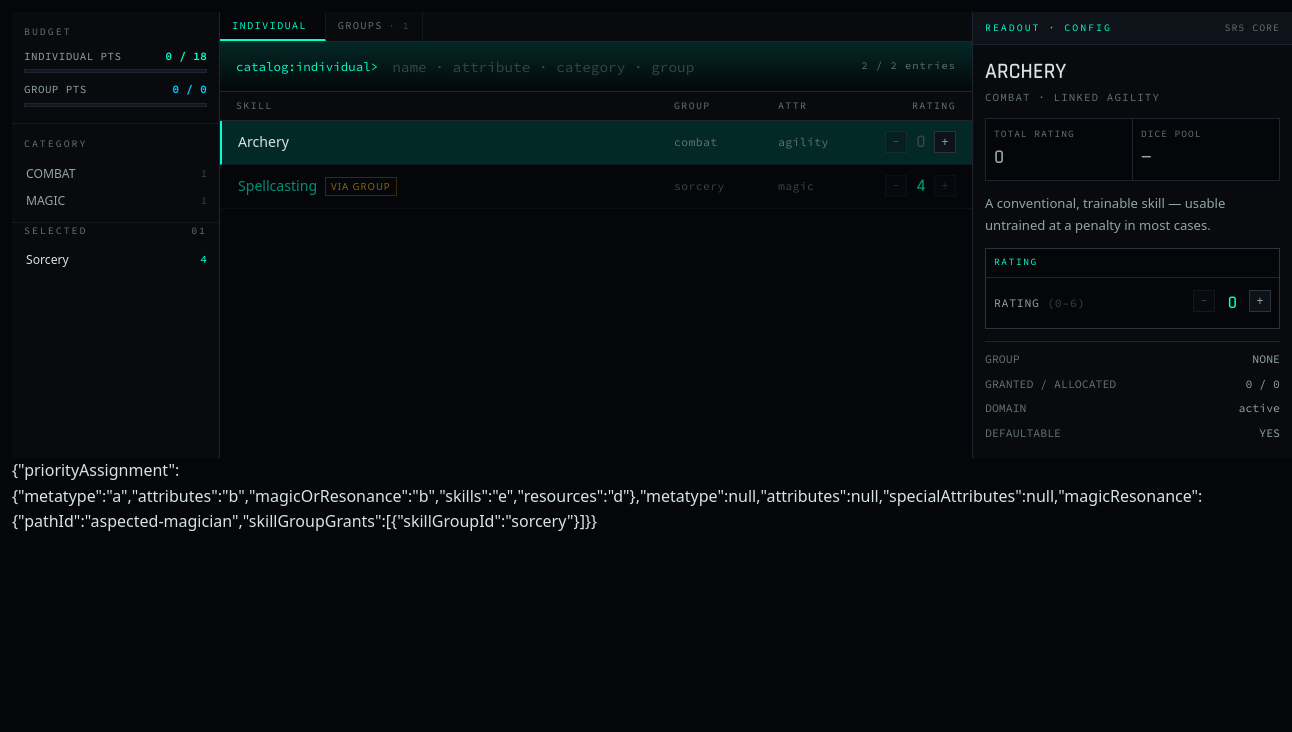
Scenario: reported character creation issues › keeps granted group totals separate from purchased ratings
What coordinates should you click on to do the following:
click the button "GROUPS · 1"
I would click on:
 (374, 26)
Its box is top-left (326, 12), bottom-right (423, 41).
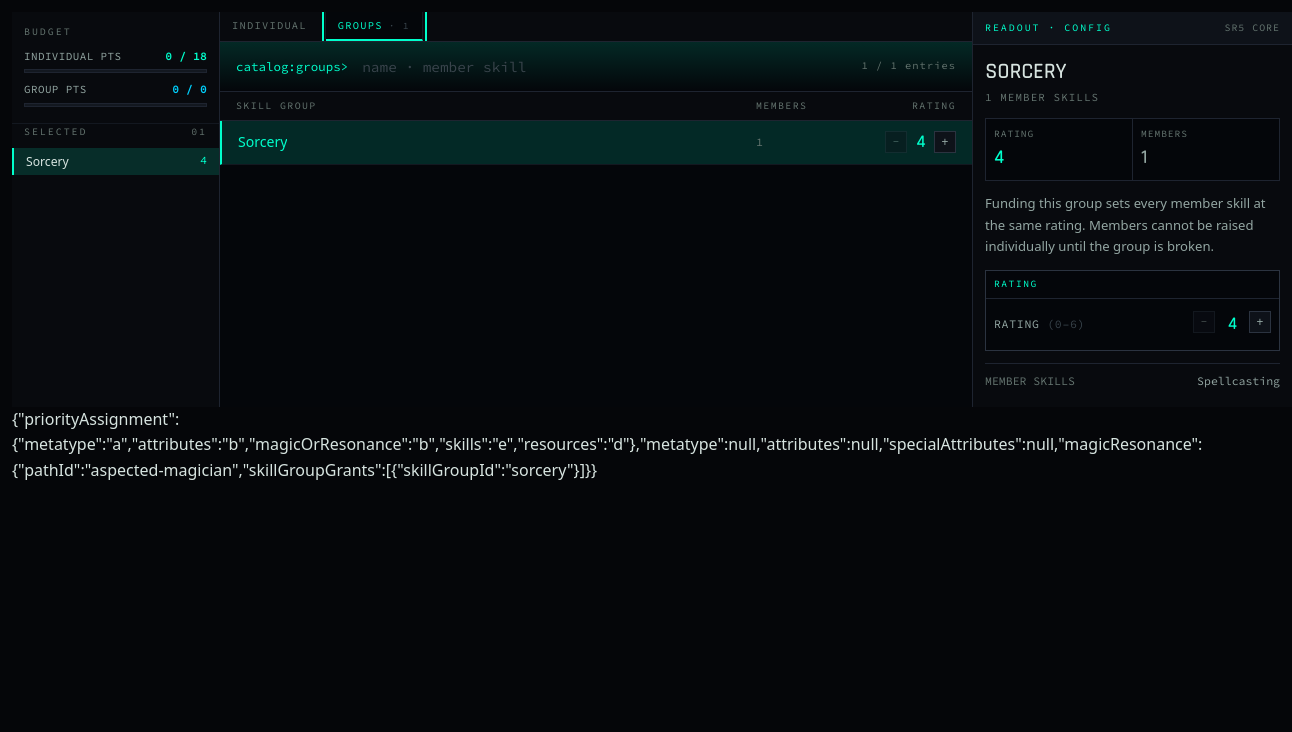
Expected: the button named "Decrease Sorcery group" is disabled, top-left (885, 131), bottom-right (907, 153)
What coordinates should you click on to do the following:
click the button named "Increase Sorcery group"
I would click on:
 (945, 142)
Its box is top-left (934, 131), bottom-right (956, 153).
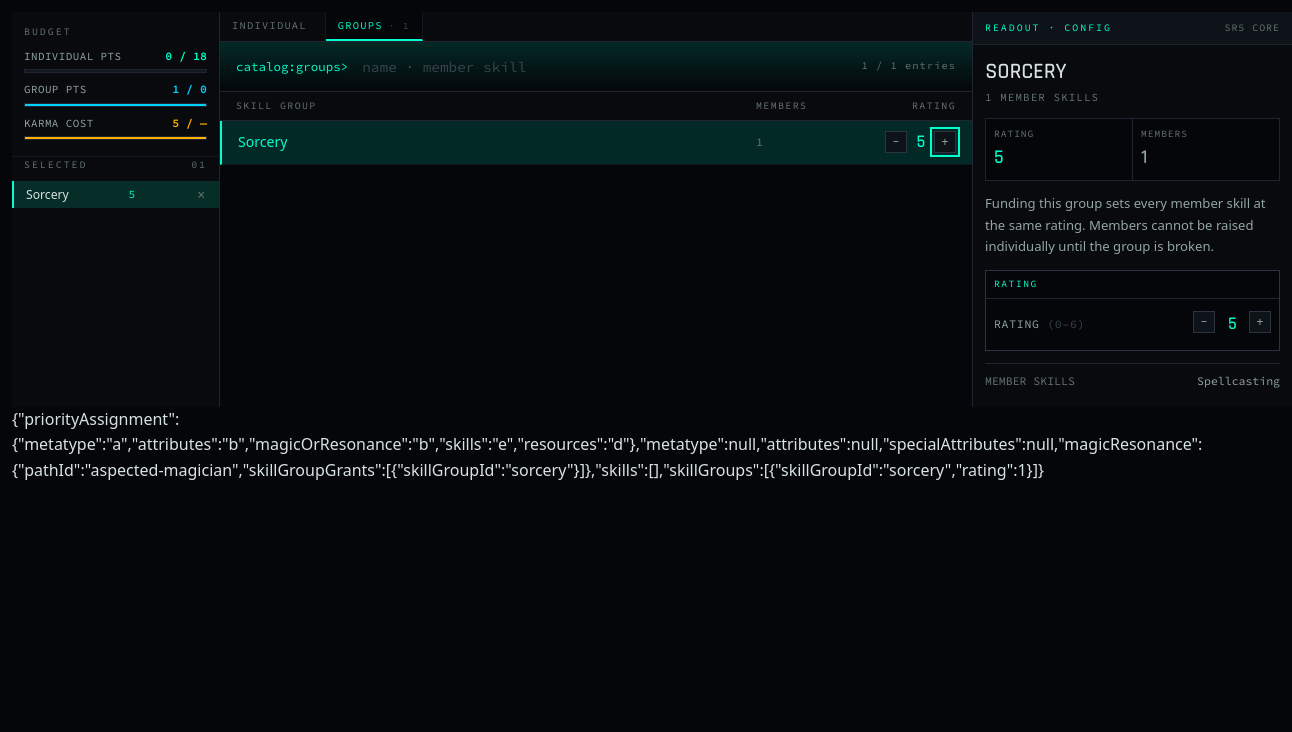
Now the text "5" below "SELECTED" is shown, box top-left (129, 187), bottom-right (135, 201)
